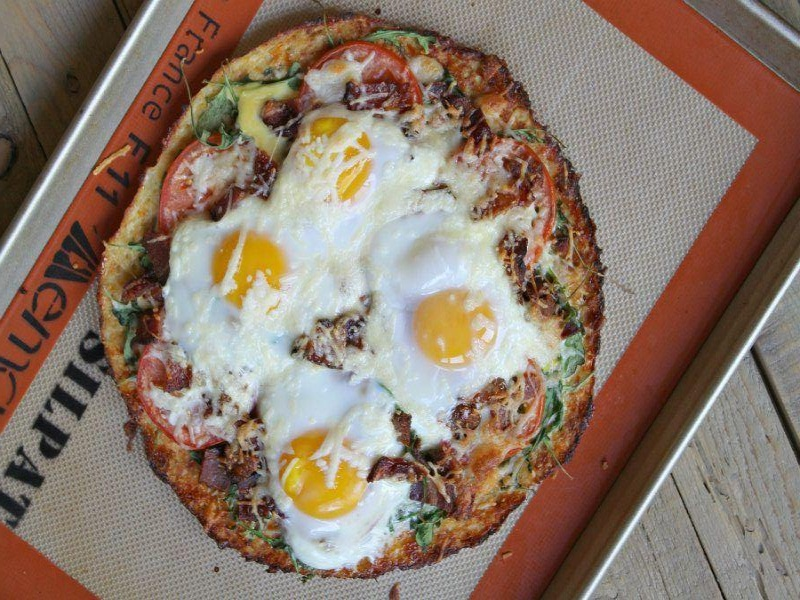oeuf: (267, 401, 374, 533), (198, 223, 308, 338), (398, 278, 515, 378), (290, 103, 383, 211)
